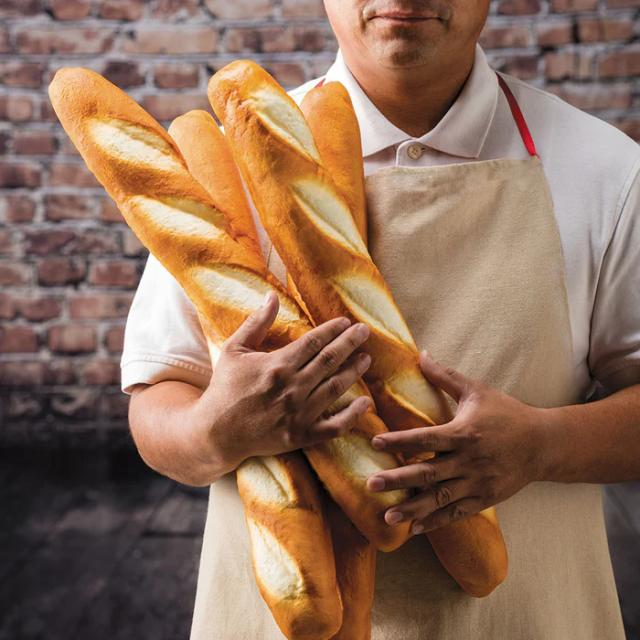Baguette: (208, 61, 452, 430), (49, 69, 273, 342), (237, 457, 343, 639), (170, 111, 260, 252), (300, 82, 366, 249), (436, 511, 507, 596)
